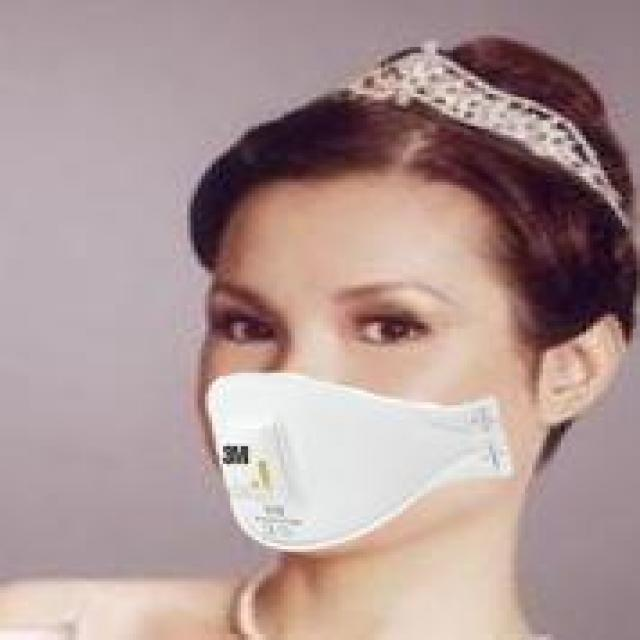mask: (172, 85, 614, 578)
